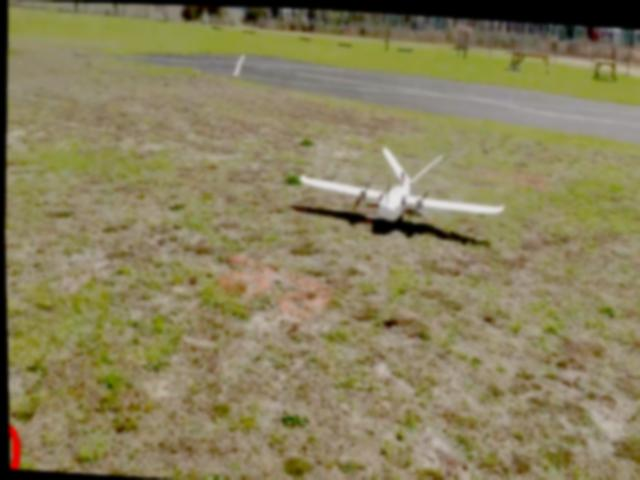plane: (299, 139, 505, 223)
